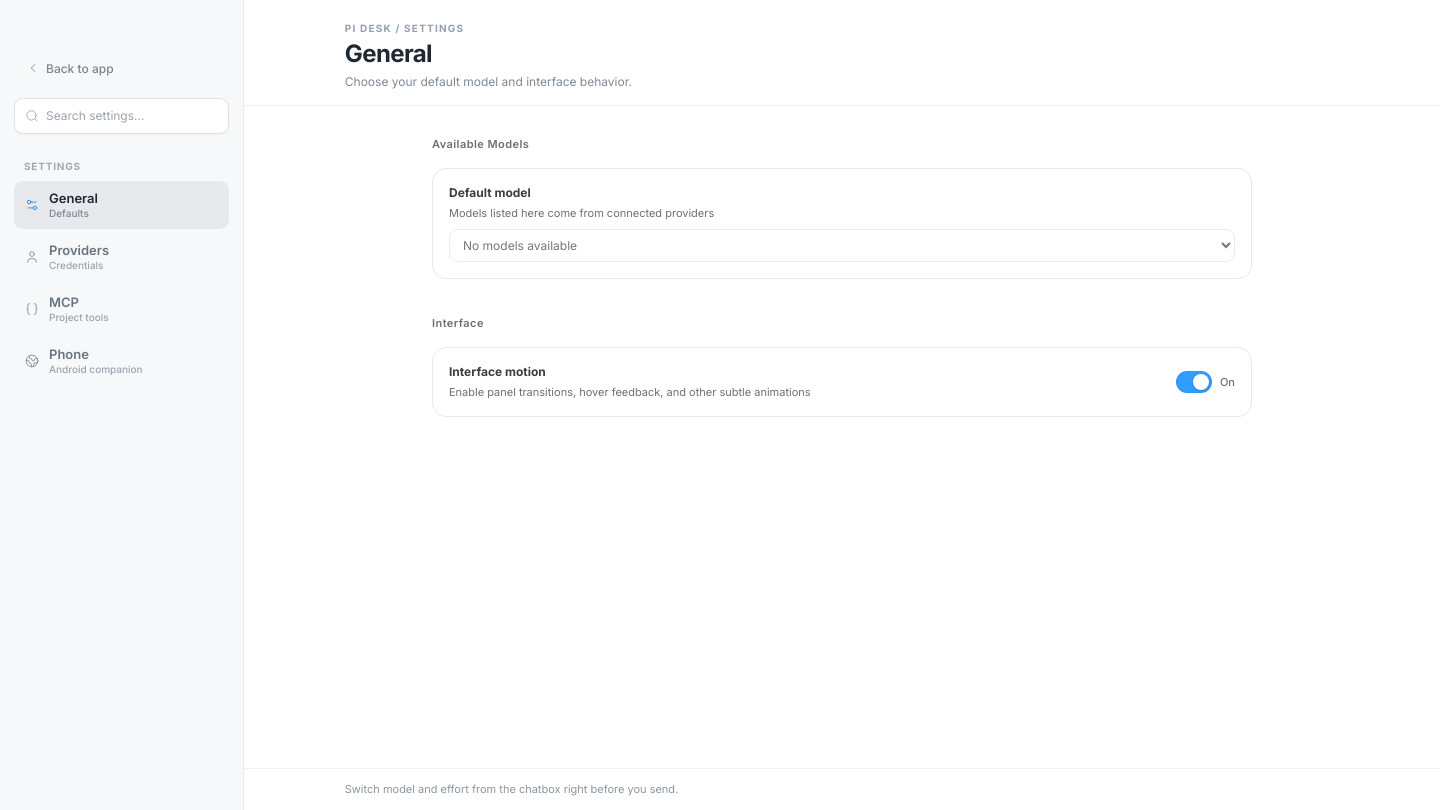
Test case: SettingsDialog › MCP tab lists servers with live status and toggles one
Click the tab "MCP Project tools".
click(122, 309)  # box left=14, top=285, right=229, bottom=333
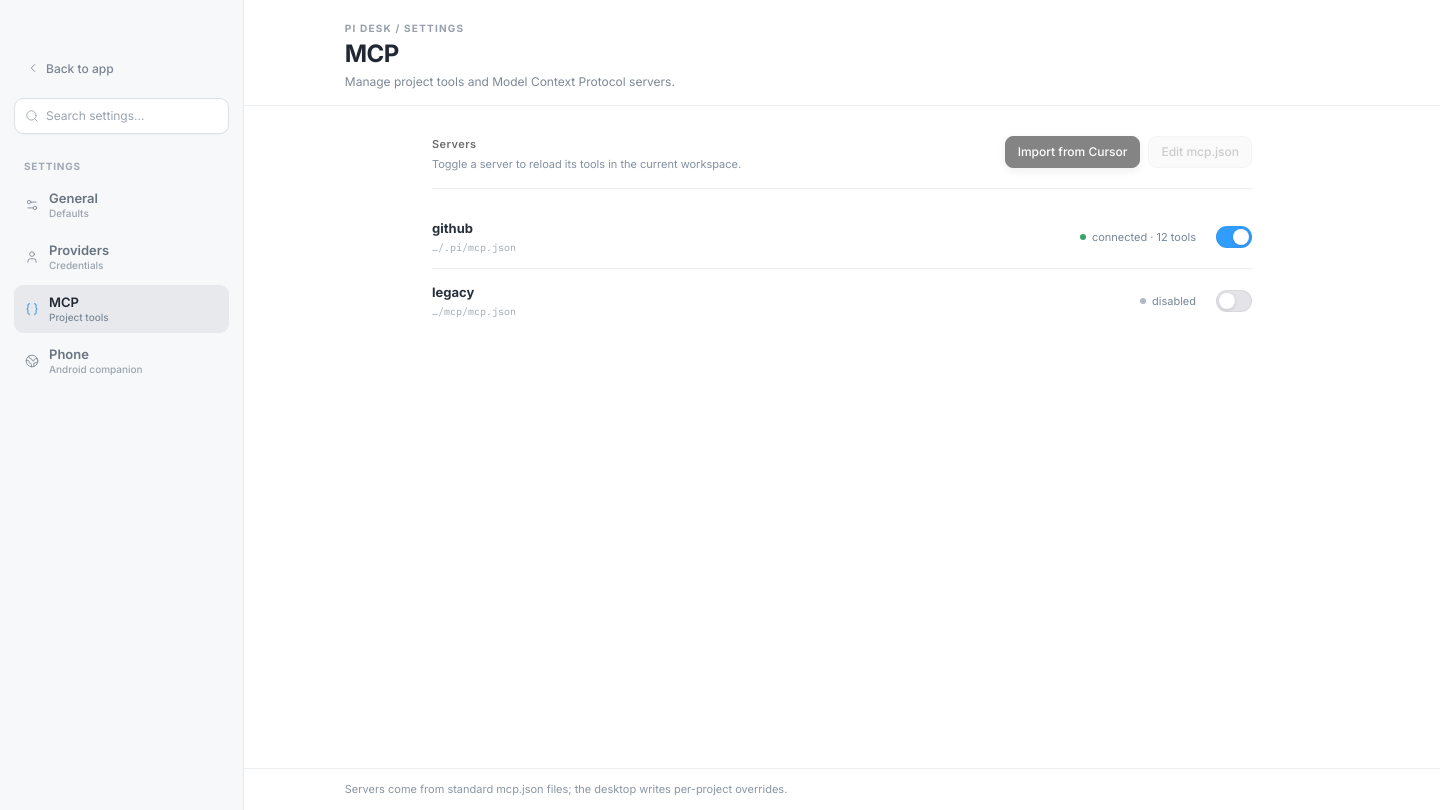
Now the text "github" is shown, box left=432, top=220, right=473, bottom=236
Now the text "connected · 12 tools" is shown, box left=1080, top=228, right=1196, bottom=244
Now the text "…/.pi/mcp.json" is shown, box left=432, top=240, right=516, bottom=254
Toggling the enabled server disables it.
Click the checkbox named "github".
click(1234, 236)  # box left=1216, top=226, right=1252, bottom=248
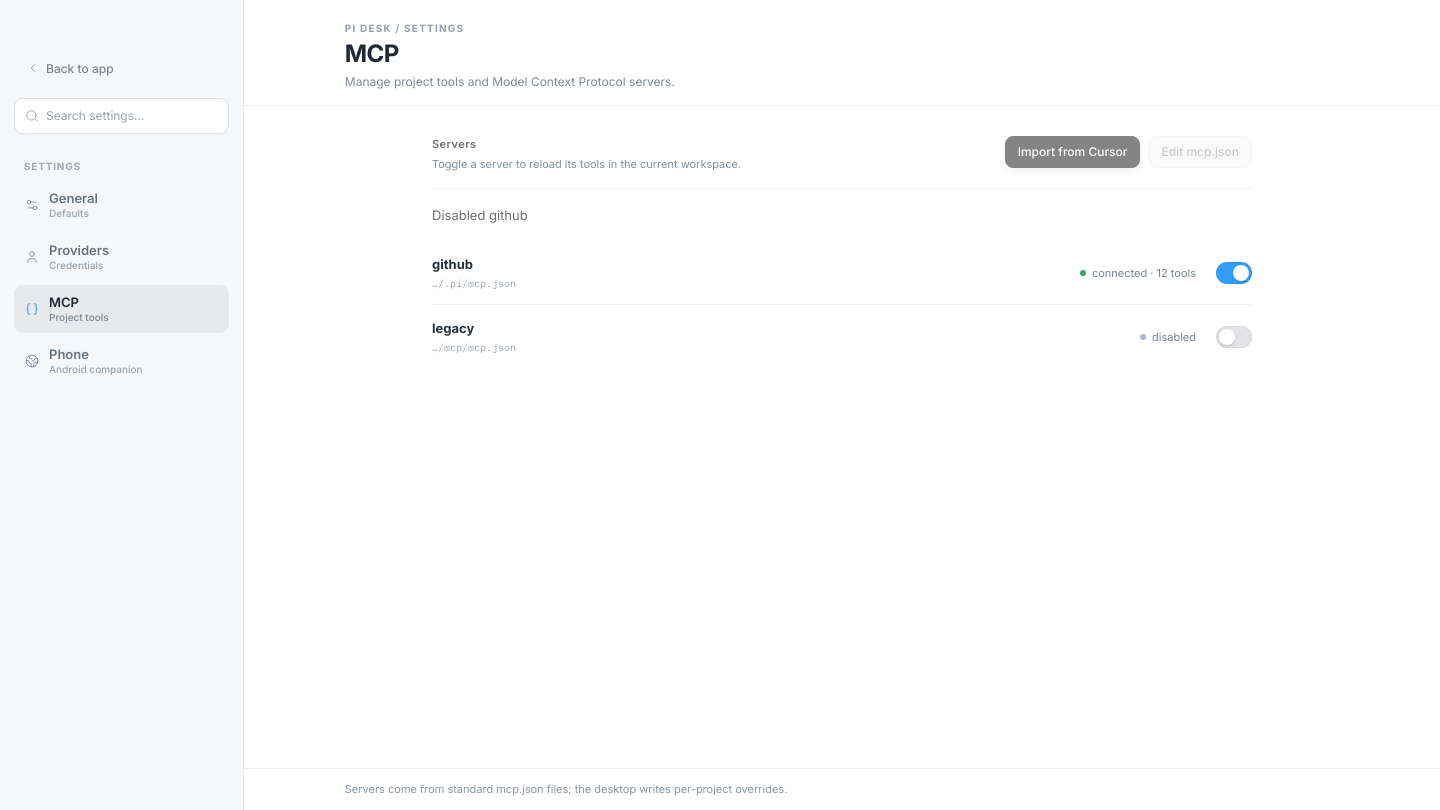
Now the text "Disabled github" is shown, box left=432, top=207, right=528, bottom=223
